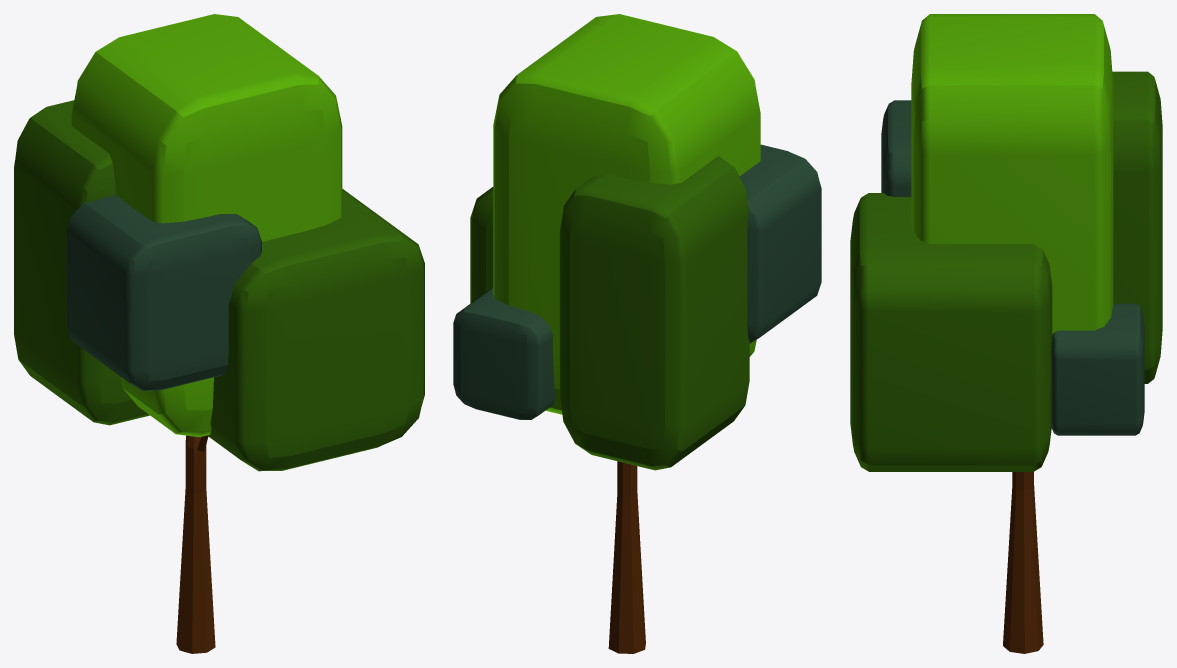
The model's file is Prop_Tree.fbx.
3 renders of one model, left to right at view 1: azimuth 30°, elevation 25°; view 2: azimuth 150°, elevation 25°; view 3: azimuth 270°, elevation 25°, orthographic. The views are drawn at different scales.
Visible parts, largest first — view 1: Folhagem12, Folhagem13, Folhagem14, Folhagem15, Tronco; view 2: Folhagem15, Folhagem12, Folhagem14, Folhagem16, Tronco, Folhagem13; view 3: Folhagem12, Folhagem13, Folhagem15, Folhagem16, Tronco, Folhagem14.
Boxes of the visible parts, left/top/right/bottom form: Folhagem12: left=71, top=14, right=342, bottom=437; Folhagem13: left=207, top=189, right=424, bottom=471; Folhagem14: left=67, top=195, right=261, bottom=390; Folhagem15: left=14, top=100, right=149, bottom=425; Tronco: left=176, top=435, right=215, bottom=653; Folhagem15: left=559, top=156, right=749, bottom=470; Folhagem12: left=493, top=14, right=760, bottom=414; Folhagem14: left=739, top=144, right=821, bottom=343; Folhagem16: left=453, top=287, right=555, bottom=419; Tronco: left=608, top=461, right=645, bottom=653; Folhagem13: left=470, top=187, right=493, bottom=303; Folhagem12: left=911, top=14, right=1113, bottom=334; Folhagem13: left=850, top=193, right=1052, bottom=471; Folhagem15: left=1112, top=71, right=1162, bottom=383; Folhagem16: left=1051, top=303, right=1144, bottom=435; Tronco: left=1003, top=472, right=1043, bottom=653; Folhagem14: left=881, top=100, right=911, bottom=196.
Bounding box in the file's own units: 226 × 446 × 208.
